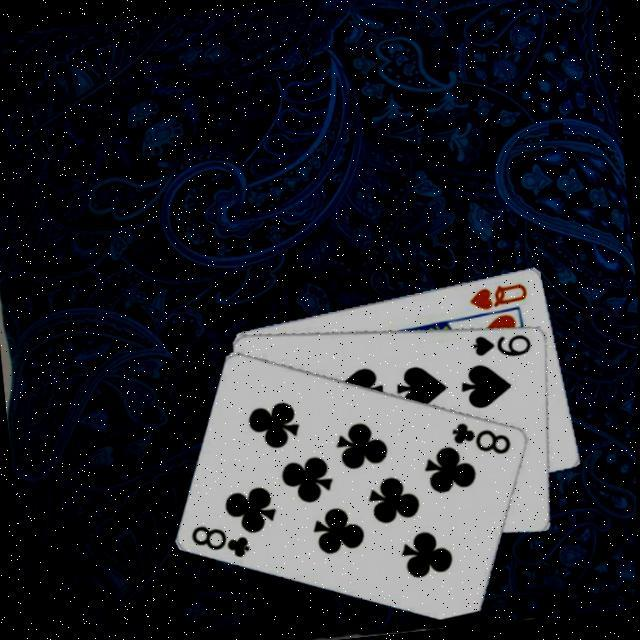8C: (185, 516, 253, 564), (445, 413, 513, 459)
9S: (466, 325, 533, 361)
QH: (463, 276, 530, 312)
